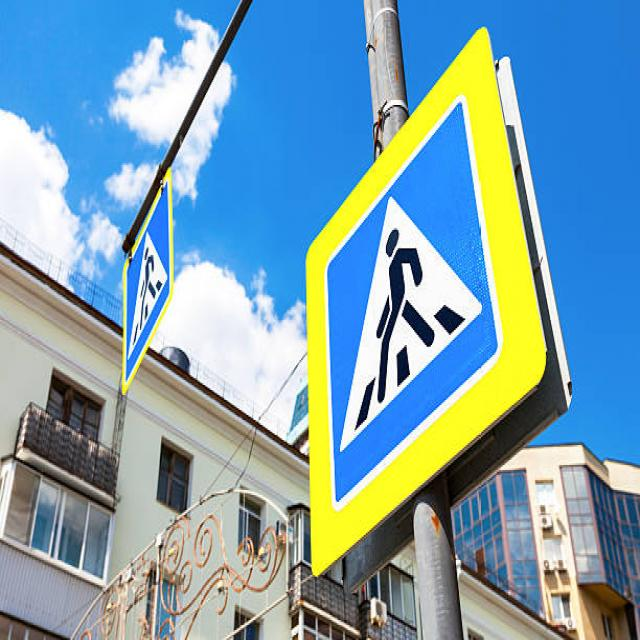crosswalk: (319, 93, 509, 519), (116, 166, 177, 379)
